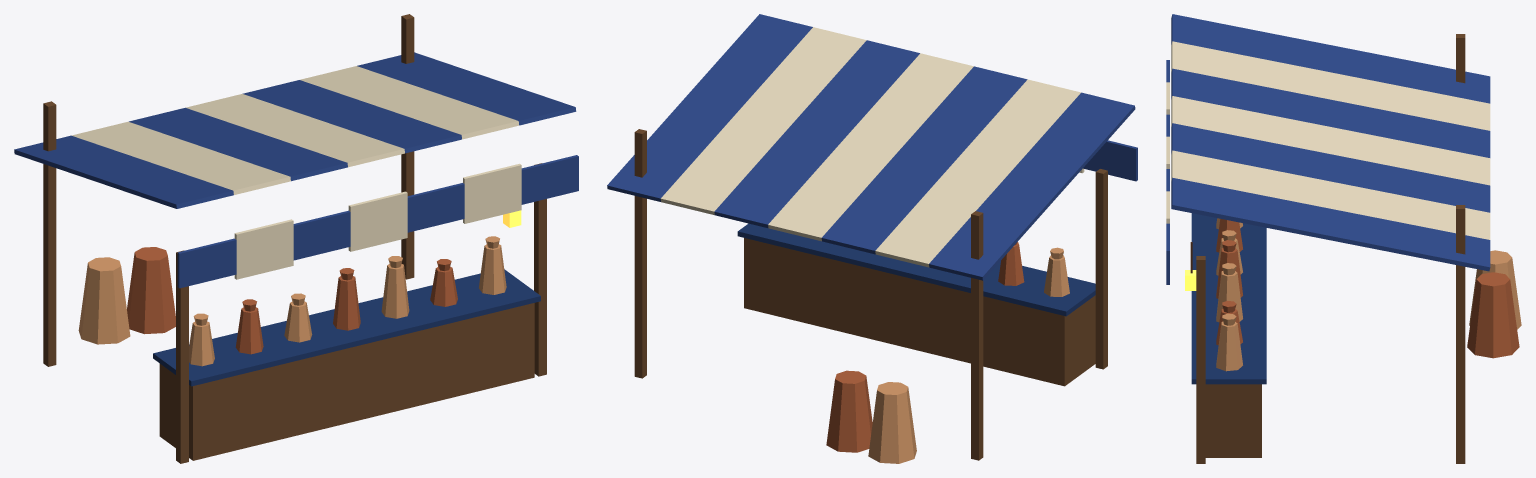
File: stall_pots.glb
3 views of the same model, side by side, from view 1: azimuth 30°, elevation 25°; view 2: azimuth 150°, elevation 25°; view 3: azimuth 270°, elevation 25° (orthographic). The views are drawn at different scales.
Parts seen in each view (by area): view 1: Stall; view 2: Stall; view 3: Stall.
Part boxes in pixels (bbox=[...]): Stall: bbox=[14, 14, 578, 463]; Stall: bbox=[607, 14, 1137, 463]; Stall: bbox=[1166, 14, 1521, 463].
Size of the model in its own units: 4.82 by 3.14 by 3.79.
